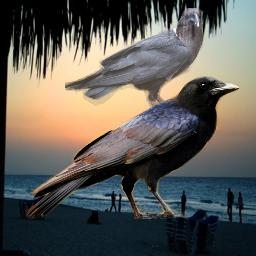Crow: (25, 74, 240, 219), (65, 8, 203, 132)
